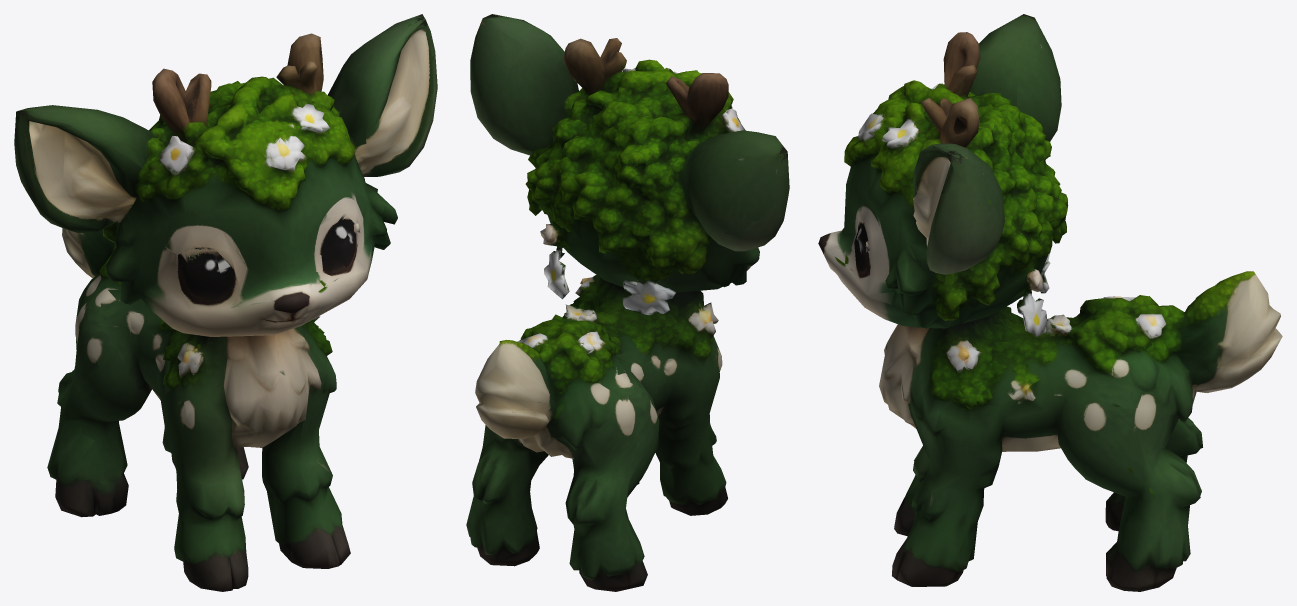
The model's file is mossfawn.glb.
3 renders of one model, left to right at view 1: azimuth 30°, elevation 25°; view 2: azimuth 150°, elevation 25°; view 3: azimuth 270°, elevation 25°, orthographic. The views are drawn at different scales.
Parts seen in each view (by area): view 1: mossfawn; view 2: mossfawn; view 3: mossfawn.
Part boxes in pixels (box(x1,y1,x2,y2)): mossfawn: box(14, 14, 437, 591); mossfawn: box(466, 14, 789, 591); mossfawn: box(818, 14, 1282, 591).
Bounding box in the file's own units: 0.7978 × 1 × 0.8742.
1 material, 1 textured.
